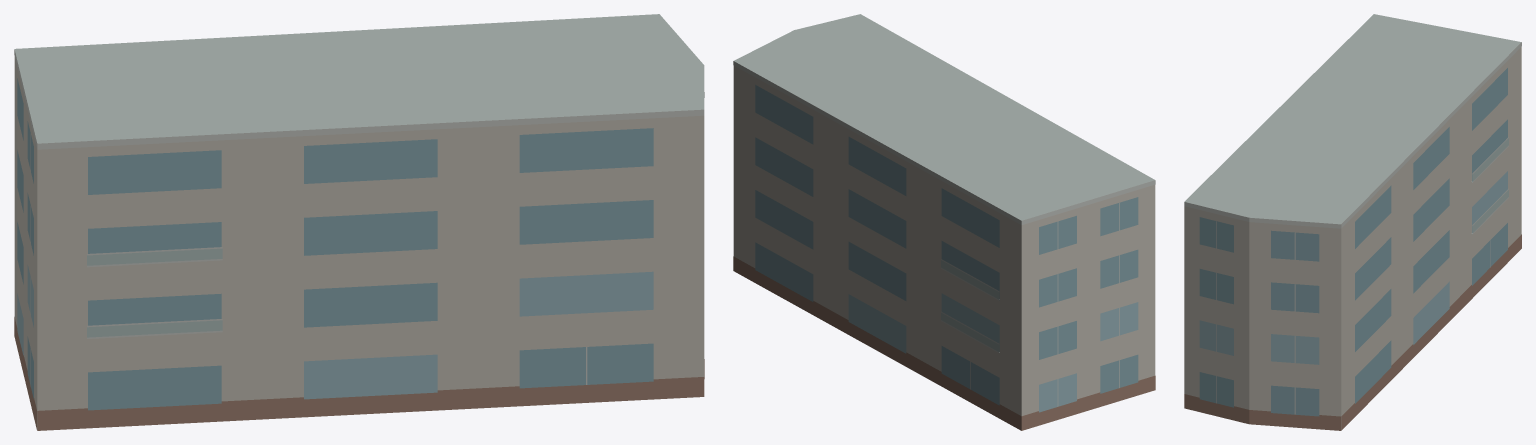
File: survey-upis-32749547.glb
3 renders of one model, left to right at view 1: azimuth 30°, elevation 25°; view 2: azimuth 150°, elevation 25°; view 3: azimuth 270°, elevation 25°, orthographic. The views are drawn at different scales.
Parts seen in each view (by area): view 1: survey-upis-32749547.tmp; view 2: survey-upis-32749547.tmp; view 3: survey-upis-32749547.tmp.
Boxes of the visible parts, bbox=[...] form: survey-upis-32749547.tmp: bbox=[14, 14, 704, 430]; survey-upis-32749547.tmp: bbox=[733, 14, 1155, 430]; survey-upis-32749547.tmp: bbox=[1184, 14, 1521, 430].
Size of the model in its own units: 25.35 by 11.6 by 17.19.
